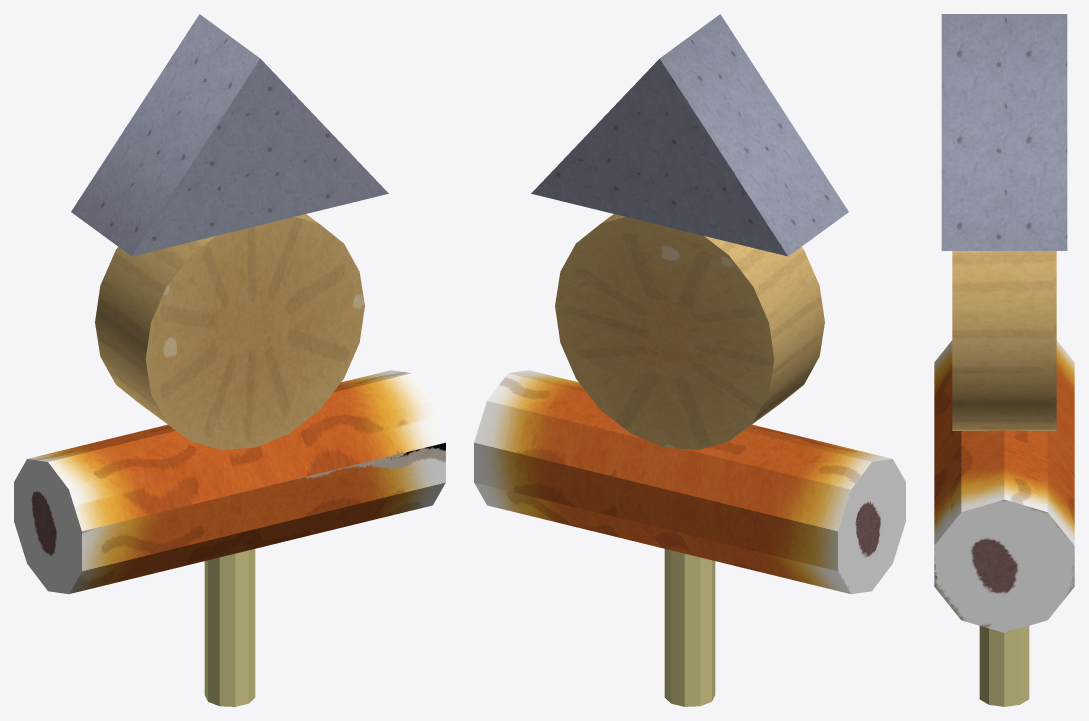
Rendered from odenO.fbx.
3 views of the same model, side by side, from view 1: azimuth 30°, elevation 25°; view 2: azimuth 150°, elevation 25°; view 3: azimuth 270°, elevation 25° (orthographic). The views are drawn at different scales.
Visible parts, largest first — view 1: pCylinder4; view 2: pCylinder4; view 3: pCylinder4.
Boxes of the visible parts, x1,y1,x2,y2 form: pCylinder4: (14, 14, 445, 706); pCylinder4: (474, 14, 905, 706); pCylinder4: (934, 14, 1074, 706).
Size of the model in its own units: 0.8294 by 1.44 by 0.2677.
Materials: 1 (1 with a texture image).
